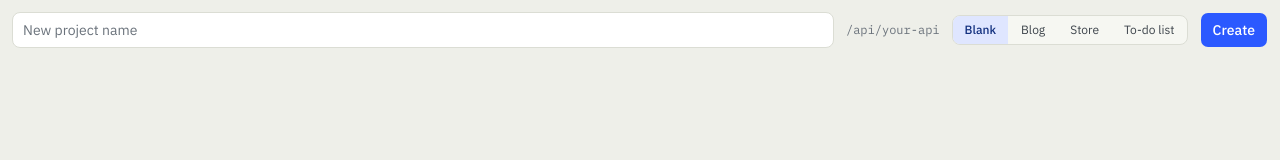
Test: shows a rejected creation inline and keeps the name
The image size is (1280, 160).
Type "My Store" into the field labelled "project name". click: (423, 30)
box: [12, 12, 834, 48]
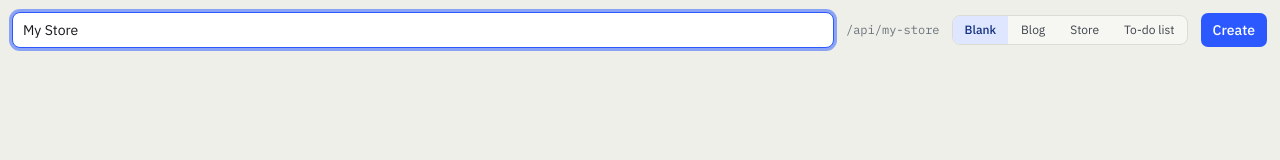
Click the button "Create". click: (1234, 30)
box: [1200, 12, 1268, 48]
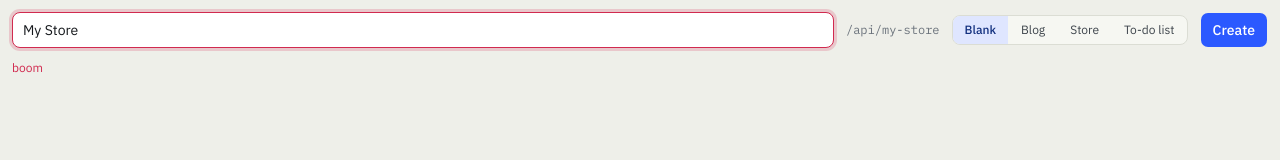
Result: the message reads "boom" at [12, 60, 43, 75]
